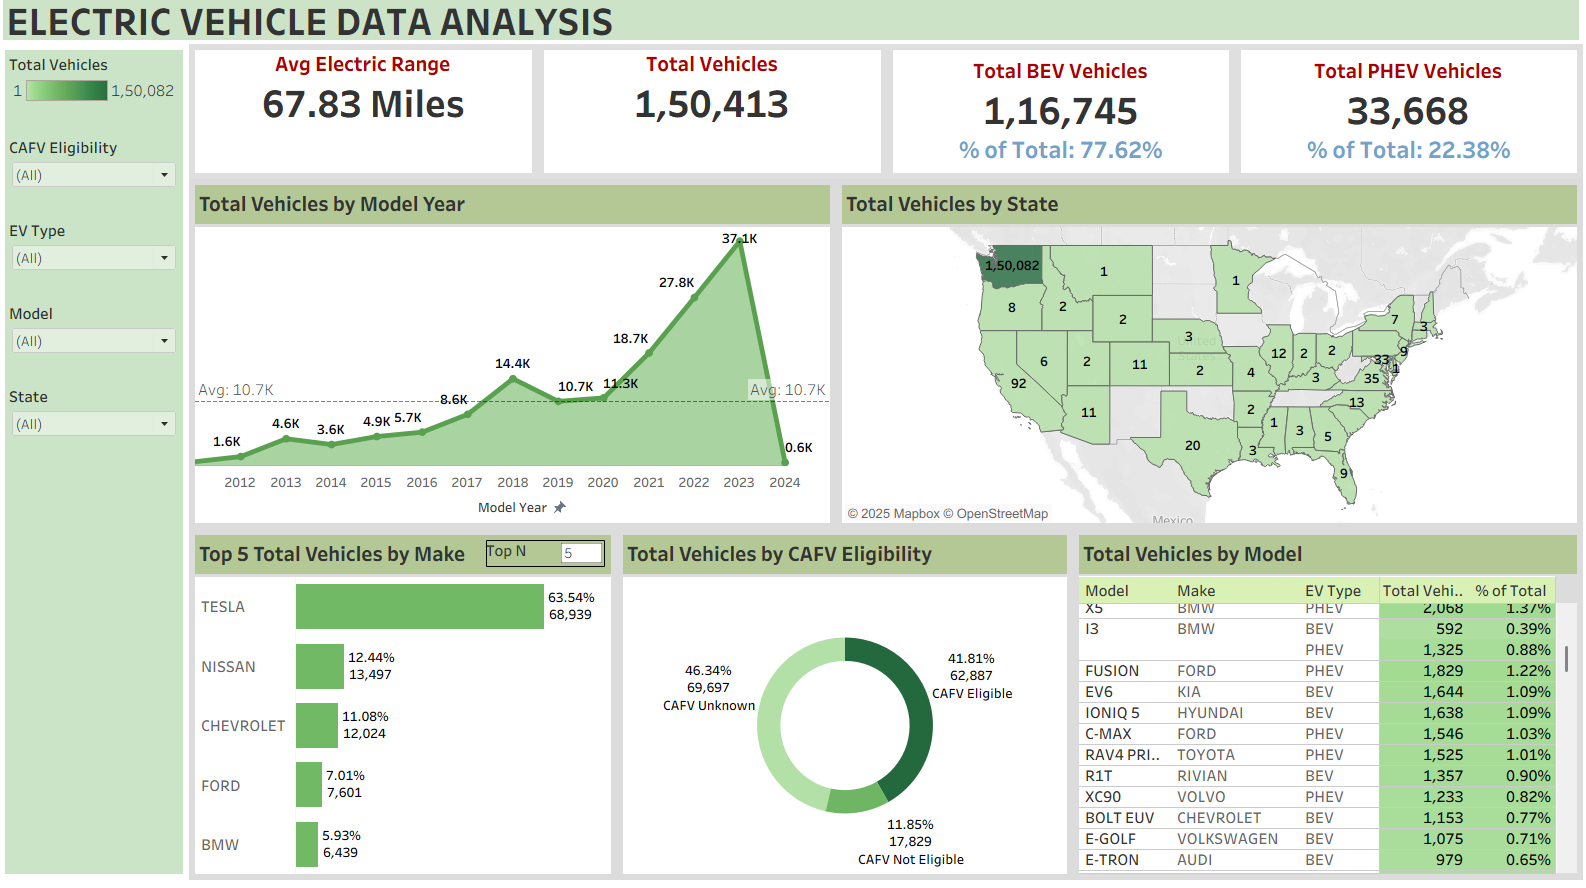

Layout of this report page (visuals, bound fields, positions):
{"tool":"tableau","page":{"name":"Dashboard 1","canvas":[1600,900],"ordinal":0},"visuals":[{"type":"title","box":[8,8,1584,48]},{"type":"worksheet","title":"Avg Electric Range","mark":"Automatic","box":[198,56,349,135]},{"type":"worksheet","title":"Total Vehicles ","mark":"Automatic","box":[547,56,349,135]},{"type":"worksheet","title":"Total BEV Vehicles","mark":"Automatic","box":[896,56,348,135]},{"type":"worksheet","title":"Total PHEV Vehicles ","mark":"Automatic","box":[1244,56,348,135]},{"type":"legend","title":"Total Vehicles by State","param":"[federated.0783i6312ldnkl19pcsga18399bv].[usr:Calculation_322288856563232768:qk]","box":[14,62,178,83]},{"type":"filter","title":"Total Vehicles by Model Year","param":"[federated.0783i6312ldnkl19pcsga18399bv].[none:Clean Alternative Fuel Vehicle (C","box":[14,145,178,83]},{"type":"worksheet","title":"Total Vehicles by Model Year","mark":"Area","rows":["Calculation_322288856563232768","Calculation_322288856563232768"],"cols":["Model Year"],"box":[198,191,647,350.5]},{"type":"worksheet","title":"Total Vehicles by State","mark":"Multipolygon","box":[845,191,747,350.5]},{"type":"filter","title":"Total Vehicles by Model Year","param":"[federated.0783i6312ldnkl19pcsga18399bv].[none:Electric Vehicle Type:nk]","box":[14,228,178,83]},{"type":"filter","title":"Total Vehicles by Model Year","param":"[federated.0783i6312ldnkl19pcsga18399bv].[none:Model:nk]","box":[14,311,178,83]},{"type":"filter","title":"Total Vehicles by Model Year","param":"[federated.0783i6312ldnkl19pcsga18399bv].[none:State:nk]","box":[14,394,178,82]},{"type":"blank","box":[14,476,178,82]},{"type":"worksheet","title":"Top 10 Total Vehicles by Make ","mark":"Automatic","rows":["Make"],"cols":["Calculation_322288856563232768"],"box":[198,541.5,428,350.5]},{"type":"worksheet","title":"Total Vehicles by CAFV Eligibility","mark":"Pie","rows":["Calculation_322288856581468168","Calculation_322288856581468168"],"box":[626,541.5,456,350.5]},{"type":"worksheet","title":"Total Vehicles by Model","mark":"Square","rows":["Model","Make","Electric Vehicle Type"],"box":[1082,541.5,510,350.5]},{"type":"parameter","param":"[Parameters].[Parameter 1]","box":[495,552,119,27]},{"type":"blank","box":[14,558,178,82]},{"type":"blank","box":[14,640,178,82]},{"type":"blank","box":[14,722,178,82]},{"type":"blank","box":[14,804,178,82]}]}

Visuals, with their boxes in screenshot pixels (x1, y1, x2, y2), scaled from the page's 1600x900 canvas onto the 1586x888 screenshot:
title: x1=8, y1=8, x2=1578, y2=55
"Avg Electric Range" worksheet: x1=196, y1=55, x2=542, y2=188
"Total Vehicles " worksheet: x1=542, y1=55, x2=888, y2=188
"Total BEV Vehicles" worksheet: x1=888, y1=55, x2=1233, y2=188
"Total PHEV Vehicles " worksheet: x1=1233, y1=55, x2=1578, y2=188
"Total Vehicles by State" legend: x1=14, y1=61, x2=190, y2=143
"Total Vehicles by Model Year" filter: x1=14, y1=143, x2=190, y2=225
"Total Vehicles by Model Year" worksheet (Area marks): x1=196, y1=188, x2=838, y2=534
"Total Vehicles by State" worksheet (Multipolygon marks): x1=838, y1=188, x2=1578, y2=534
"Total Vehicles by Model Year" filter: x1=14, y1=225, x2=190, y2=307
"Total Vehicles by Model Year" filter: x1=14, y1=307, x2=190, y2=389
"Total Vehicles by Model Year" filter: x1=14, y1=389, x2=190, y2=470
blank: x1=14, y1=470, x2=190, y2=551
"Top 10 Total Vehicles by Make " worksheet: x1=196, y1=534, x2=621, y2=880
"Total Vehicles by CAFV Eligibility" worksheet (Pie marks): x1=621, y1=534, x2=1073, y2=880
"Total Vehicles by Model" worksheet (Square marks): x1=1073, y1=534, x2=1578, y2=880
parameter: x1=491, y1=545, x2=609, y2=571
blank: x1=14, y1=551, x2=190, y2=631
blank: x1=14, y1=631, x2=190, y2=712
blank: x1=14, y1=712, x2=190, y2=793
blank: x1=14, y1=793, x2=190, y2=874
